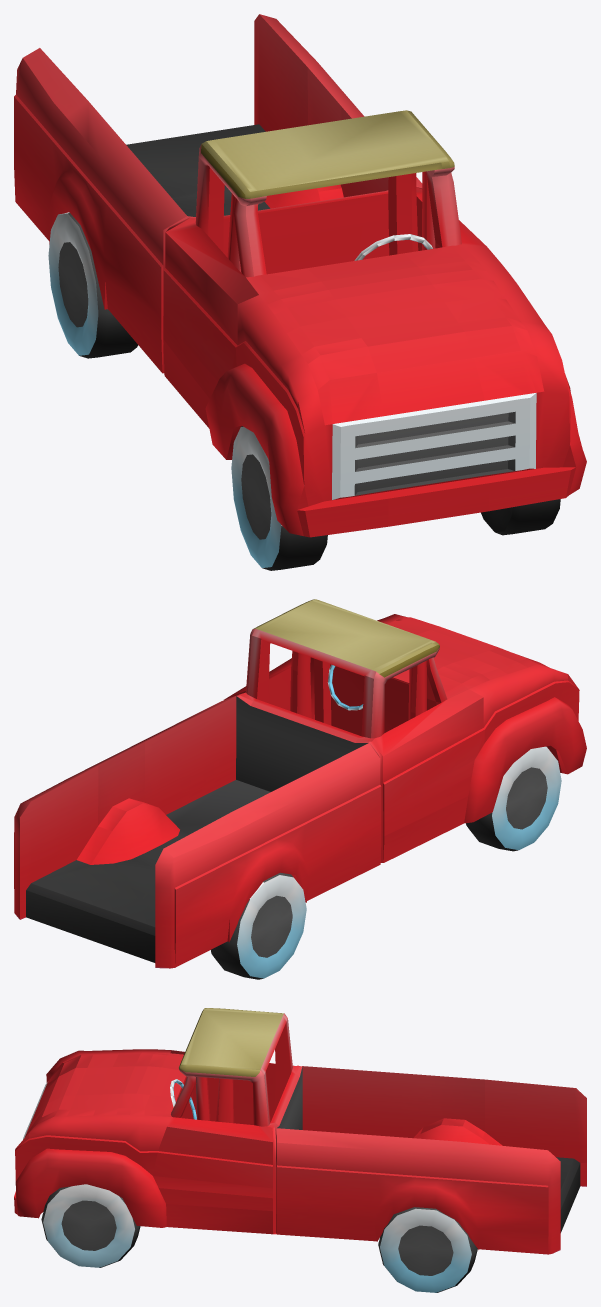
File: car.FBX
3 renders of one model, top to bottom at view 1: azimuth 30°, elevation 25°; view 2: azimuth 150°, elevation 25°; view 3: azimuth 270°, elevation 25°, orthographic. The views are drawn at different scales.
Parts seen in each view (by area): view 1: lo poly car; view 2: lo poly car; view 3: lo poly car.
Part boxes in pixels (x1,y1,x2,y2): lo poly car: (14, 14, 586, 570); lo poly car: (14, 599, 586, 979); lo poly car: (14, 1008, 586, 1292).
Bounding box in the file's own units: 580 × 451 × 1168.
Materials: 1 (1 with a texture image).
